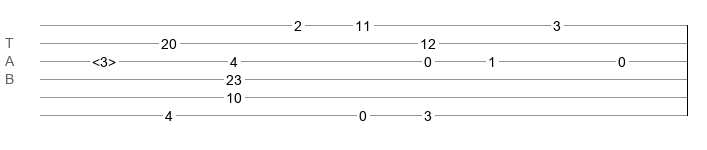0: (359, 108, 367, 118), (424, 54, 432, 64), (618, 54, 626, 64)
1: (488, 54, 496, 64)
10: (226, 90, 242, 100)
11: (355, 18, 371, 28)
12: (420, 36, 436, 46)
2: (294, 18, 302, 28)
20: (161, 36, 177, 46)
23: (226, 72, 242, 82)
3: (424, 108, 432, 118), (553, 18, 561, 28)
4: (165, 108, 173, 118), (230, 54, 238, 64)
harmonic: (92, 54, 116, 64)
